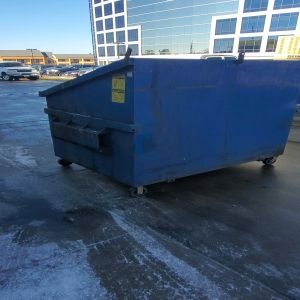Dumpster: (44, 57, 299, 198)
